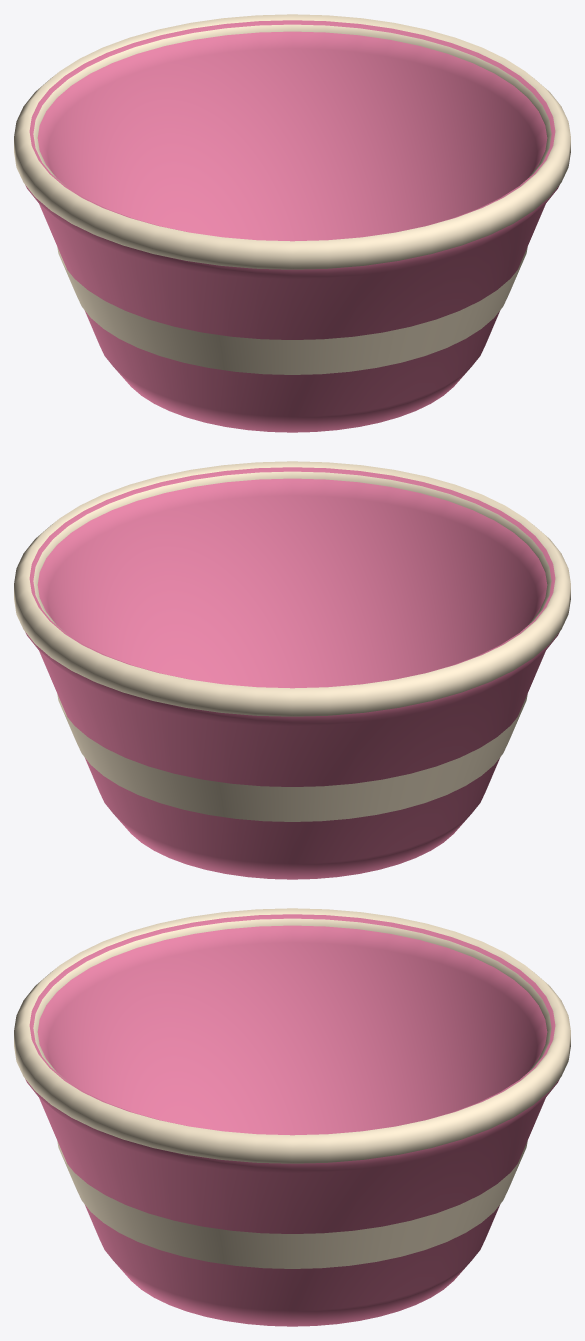
Rendered from Empty_bowl.fbx.
The picture shows the model from 3 angles, top to bottom: view 1: azimuth 30°, elevation 25°; view 2: azimuth 150°, elevation 25°; view 3: azimuth 270°, elevation 25°; orthographic projection.
Visible parts, largest first — view 1: Toon_Empty_bowl Paper bowl.001, Toon_Empty_bowl Rolled paper rim.001, Toon_Empty_bowl Cream band.001; view 2: Toon_Empty_bowl Paper bowl.001, Toon_Empty_bowl Rolled paper rim.001, Toon_Empty_bowl Cream band.001; view 3: Toon_Empty_bowl Paper bowl.001, Toon_Empty_bowl Rolled paper rim.001, Toon_Empty_bowl Cream band.001.
Part boxes in pixels (x1,y1,x2,y2): Toon_Empty_bowl Paper bowl.001: (25,20,559,432); Toon_Empty_bowl Rolled paper rim.001: (14,14,570,269); Toon_Empty_bowl Cream band.001: (57,247,527,374); Toon_Empty_bowl Paper bowl.001: (25,467,559,879); Toon_Empty_bowl Rolled paper rim.001: (14,461,570,716); Toon_Empty_bowl Cream band.001: (57,694,527,821); Toon_Empty_bowl Paper bowl.001: (25,914,559,1326); Toon_Empty_bowl Rolled paper rim.001: (14,908,570,1163); Toon_Empty_bowl Cream band.001: (57,1141,527,1268).
Size of the model in its own units: 16.6 by 7.6 by 16.6.
